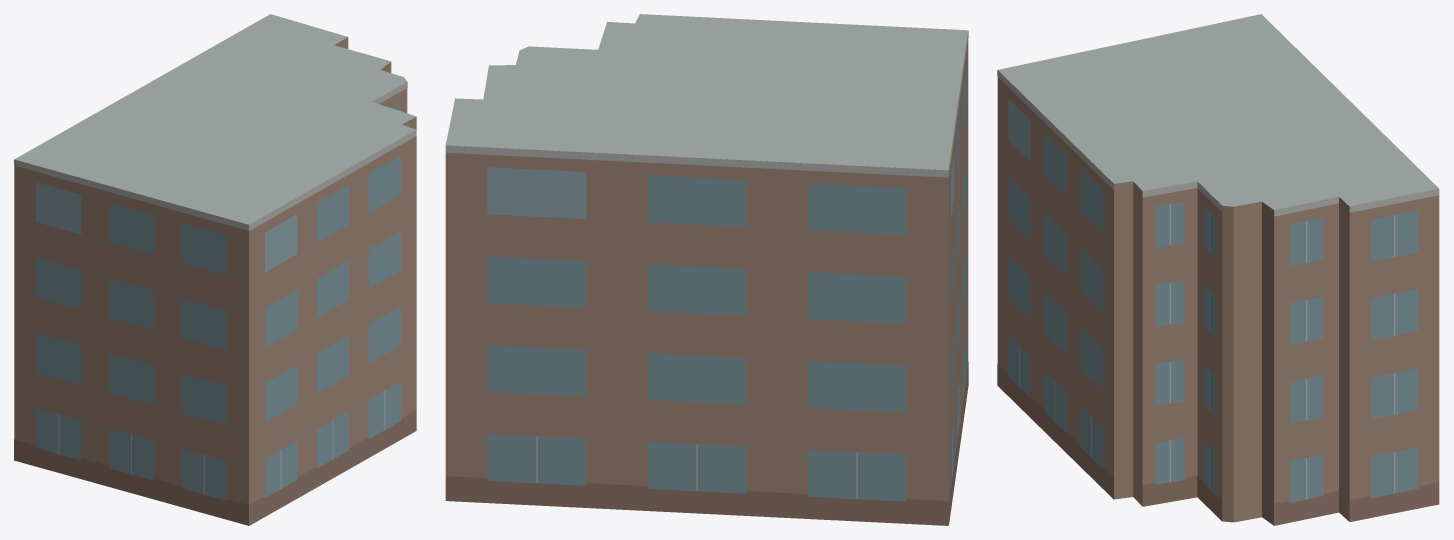
Rendered from survey-upis-32458414.glb.
The picture shows the model from 3 angles, left to right: view 1: azimuth 30°, elevation 25°; view 2: azimuth 150°, elevation 25°; view 3: azimuth 270°, elevation 25°; orthographic projection. The views are drawn at different scales.
Visible parts, largest first — view 1: survey-upis-32458414.tmp; view 2: survey-upis-32458414.tmp; view 3: survey-upis-32458414.tmp.
Part boxes in pixels (box(x1,y1,x2,y2)): survey-upis-32458414.tmp: box(14, 14, 416, 525); survey-upis-32458414.tmp: box(445, 14, 968, 525); survey-upis-32458414.tmp: box(997, 14, 1439, 525).
Bounding box in the file's own units: 15.87 × 11.9 × 15.1.
